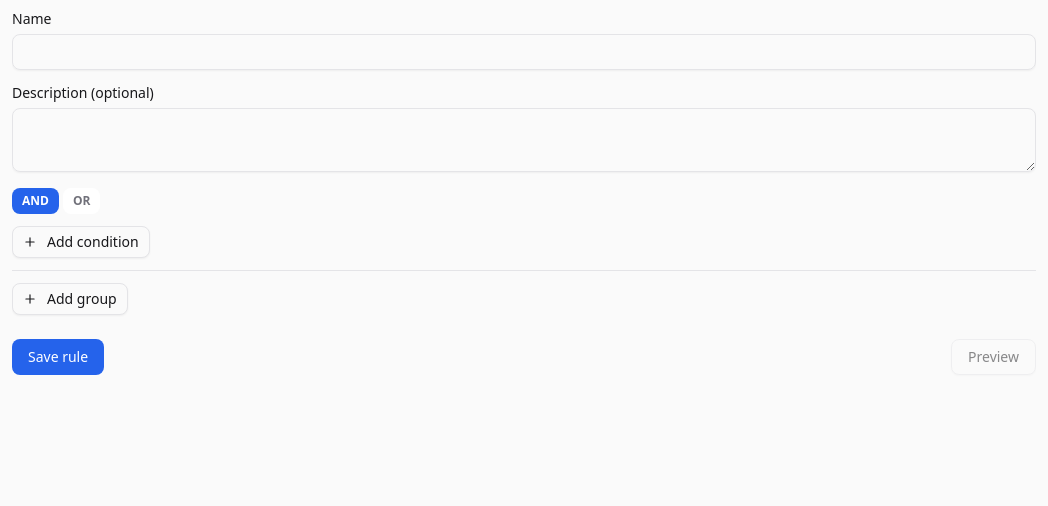
Test: RuleEditor -- depth cap (no Add group inside a group) › offers Add group at the top level but not inside a nested group
Click the button with test id "rule-add-group" at (70, 299), box [12,283,128,315]
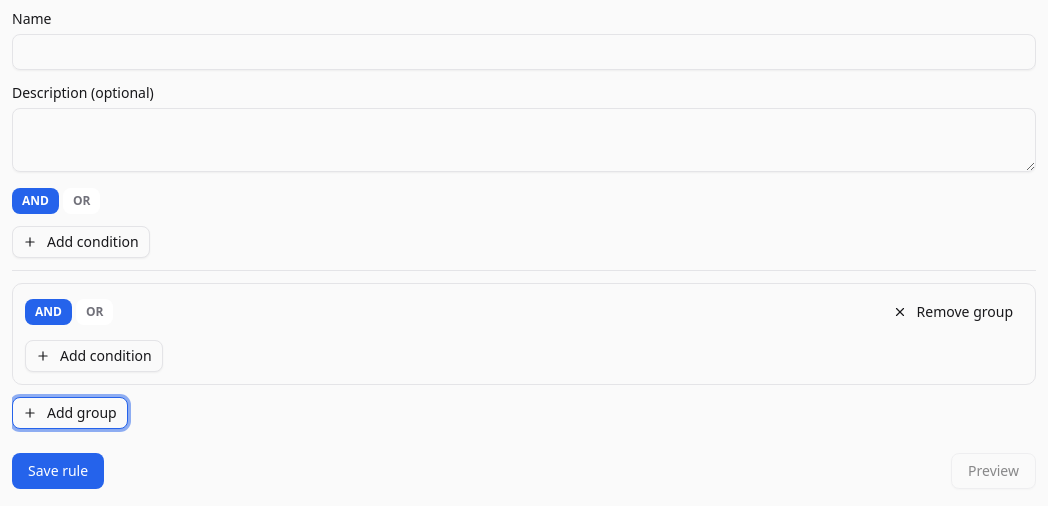
Check: the element with test id "rule-group-0-level" is shown, box [12,283,1036,385]
